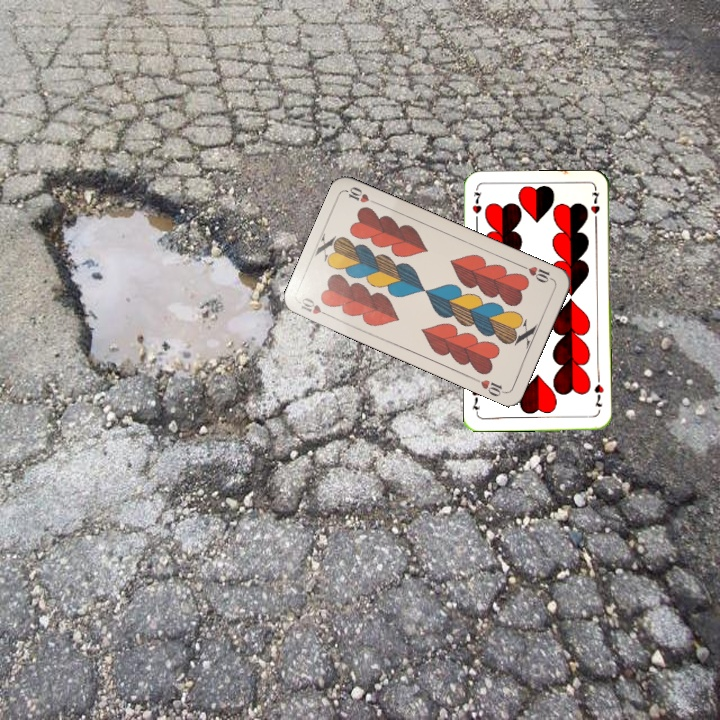H10: (297, 293, 334, 320), (517, 261, 556, 285)
H7: (468, 186, 484, 226), (590, 380, 606, 410)
